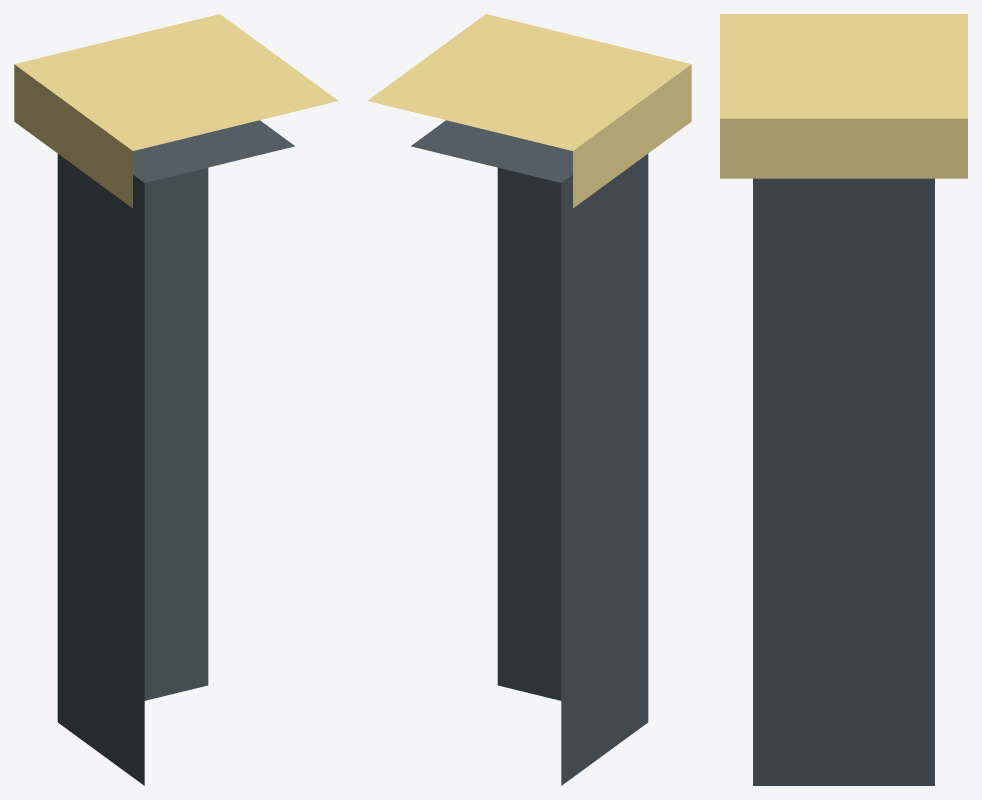
Rendered from bollard.glb.
3 views of the same model, side by side, from view 1: azimuth 30°, elevation 25°; view 2: azimuth 150°, elevation 25°; view 3: azimuth 270°, elevation 25° (orthographic). The views are drawn at different scales.
Size of the model in its own units: 0.3 by 0.91 by 0.3.
